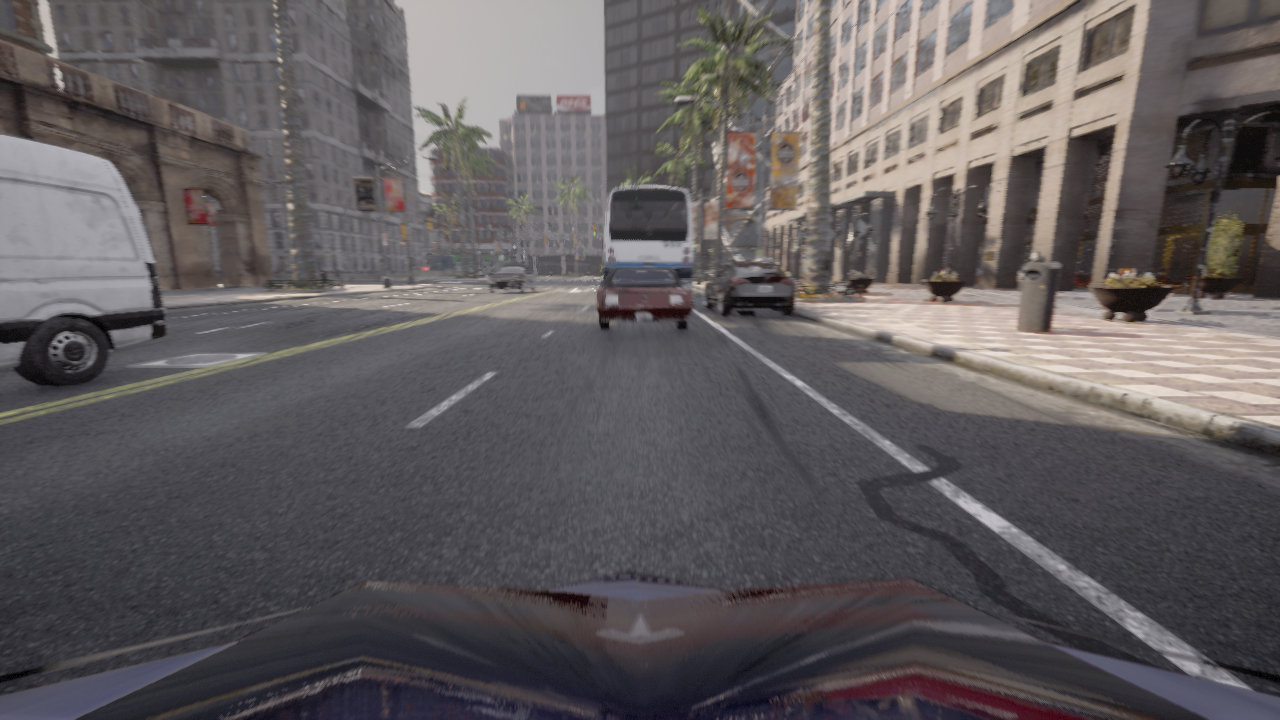cyclist: (0, 569, 1279, 719), (603, 186, 692, 289), (595, 268, 692, 330), (703, 262, 794, 315), (488, 264, 535, 293)
